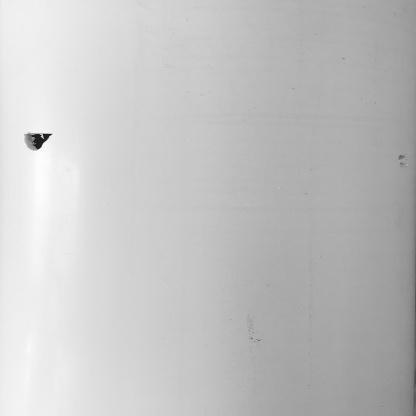kongdong: (19, 124, 61, 156)
